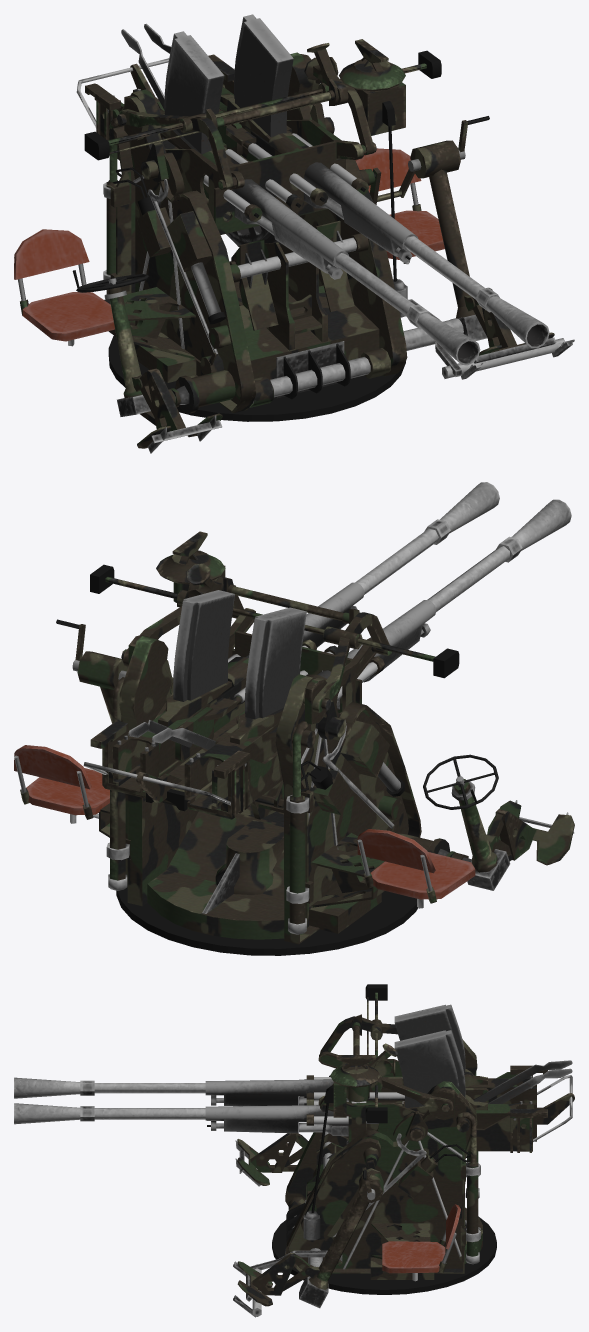
Rendered from game-ready_asset_antiaircraft_gun_25mm_type_96.glb.
3 views of the same model, one above another, from view 1: azimuth 30°, elevation 25°; view 2: azimuth 150°, elevation 25°; view 3: azimuth 270°, elevation 25° (orthographic). The views are drawn at different scales.
Visible parts, largest first — view 1: Object_2; view 2: Object_2; view 3: Object_2.
Boxes of the visible parts, x1,y1,x2,y2 form: Object_2: [14, 14, 574, 453]; Object_2: [14, 482, 574, 955]; Object_2: [14, 984, 574, 1317].
Size of the model in its own units: 172 by 117 by 260.
1 material, 1 textured.
